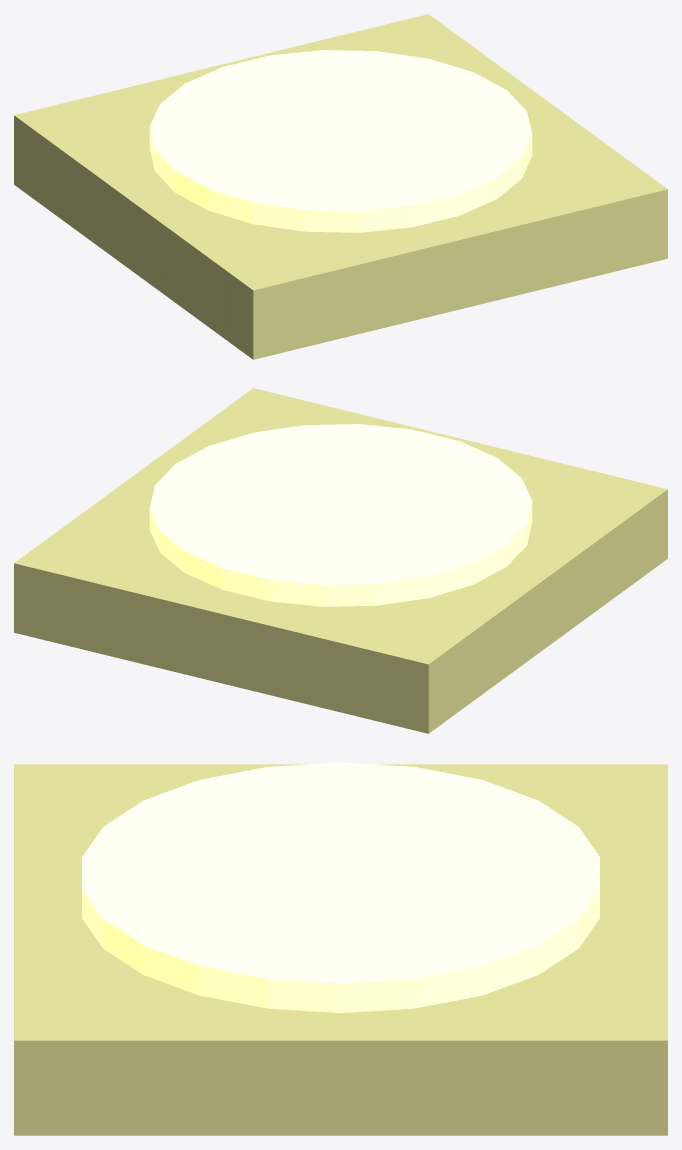
The model's file is TimedPulse_Thin.glb.
3 renders of one model, top to bottom at view 1: azimuth 30°, elevation 25°; view 2: azimuth 150°, elevation 25°; view 3: azimuth 270°, elevation 25°, orthographic. The views are drawn at different scales.
Visible parts, largest first — view 1: TimedPulse_Thin_body, glow_disc.009; view 2: TimedPulse_Thin_body, glow_disc.009; view 3: TimedPulse_Thin_body, glow_disc.009.
Boxes of the visible parts, x1=… form: TimedPulse_Thin_body: x1=14, y1=14, x2=667, y2=359; glow_disc.009: x1=149, y1=50, x2=532, y2=232; TimedPulse_Thin_body: x1=14, y1=388, x2=667, y2=733; glow_disc.009: x1=149, y1=424, x2=532, y2=606; TimedPulse_Thin_body: x1=14, y1=764, x2=667, y2=1135; glow_disc.009: x1=82, y1=762, x2=599, y2=1012.
Size of the model in its own units: 1 by 0.21 by 1.
